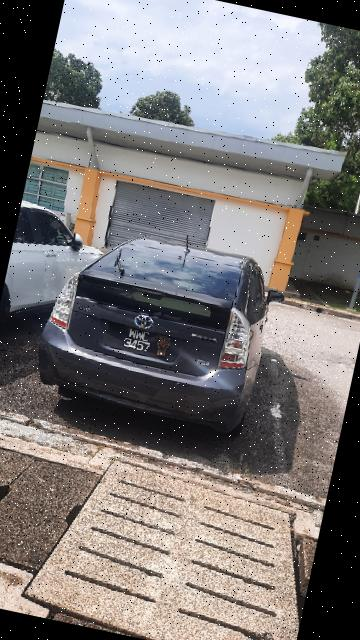License_Plate: (100, 320, 185, 367)
car: (28, 215, 286, 443)
